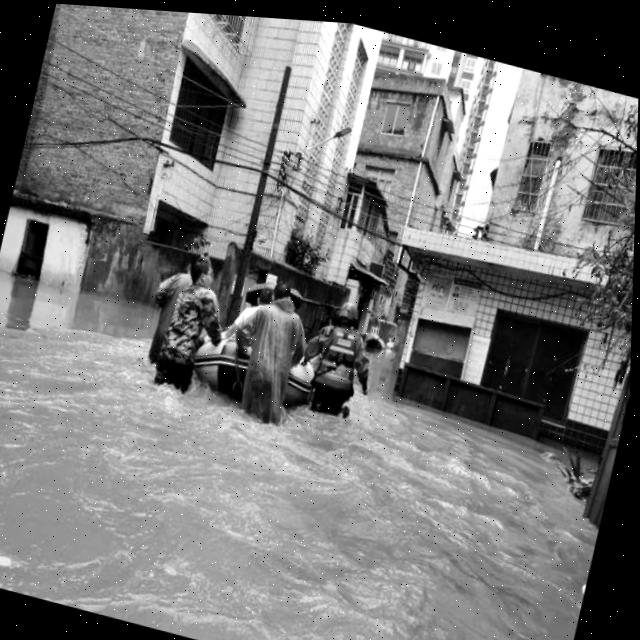civilian: (222, 271, 323, 450), (151, 245, 244, 412), (133, 248, 203, 386), (228, 270, 279, 357)
rescuer: (290, 283, 391, 430)
